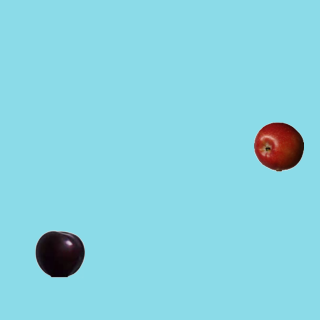Apple Braeburn: (253, 121, 303, 171)
Cherry Wax Black: (34, 228, 84, 278)
